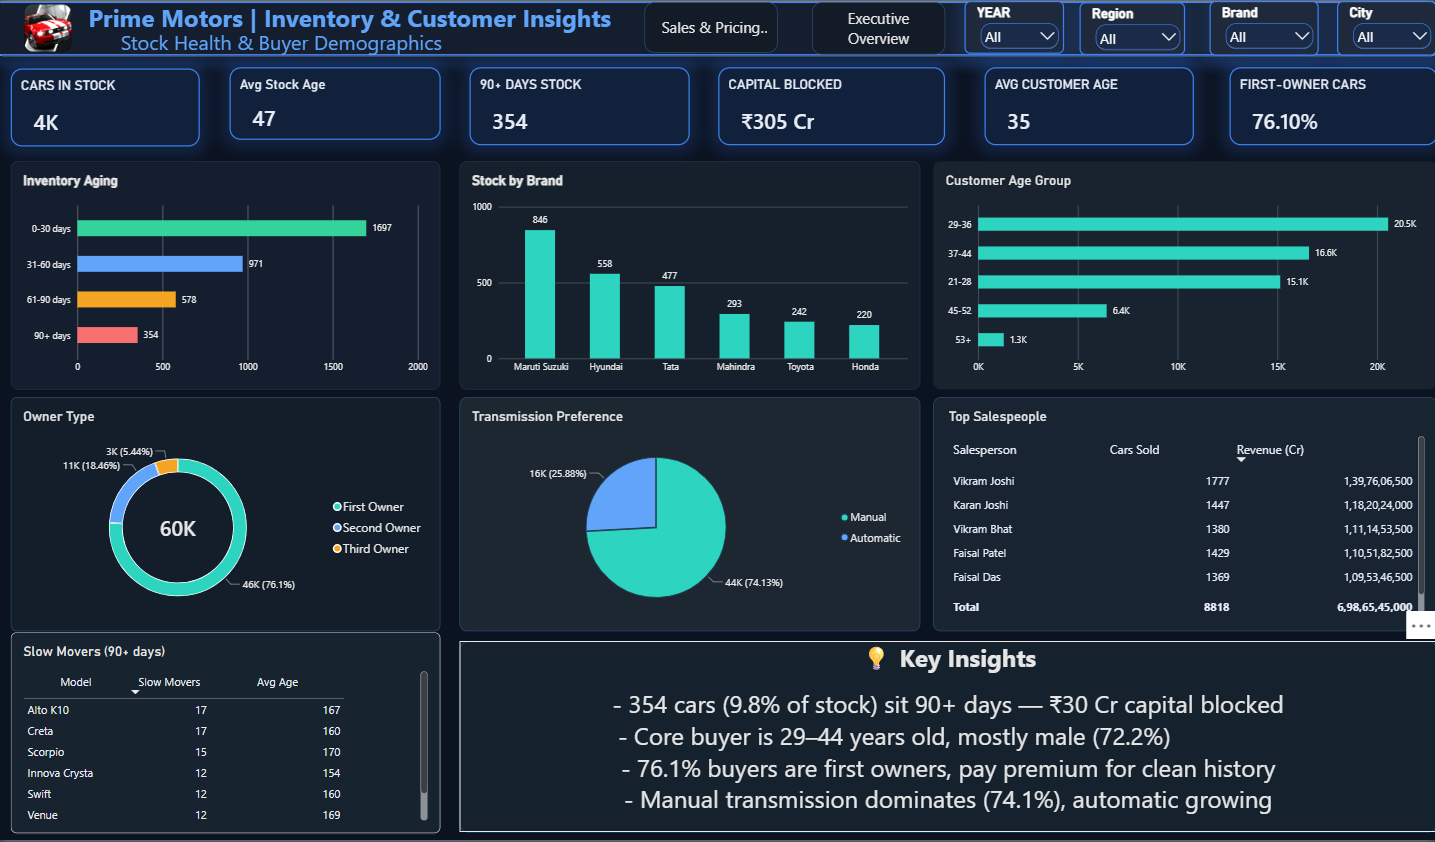

What the dashboard file says about the page in this screenshot:
{"tool":"powerbi","page":{"name":"Inventory & Customer Insights","canvas":[1920,1120],"ordinal":2},"visuals":[{"type":"shape","box":[0,0,1920,73.9],"z":0},{"type":"textbox","box":[122.5,0,741.7,73.9],"z":1},{"type":"textbox","box":[164.7,37,467.2,191.4],"z":2},{"type":"slicer","title":"YEAR","fields":{"Values":["ABC_Motors_Used_Car_Sales.Sale_Year"]},"box":[1289.2,0,132.6,70.6],"z":3},{"type":"slicer","title":"Region","fields":{"Values":["ABC_Motors_Used_Car_Sales.Region"]},"box":[1444,2.3,141.1,70.6],"z":4},{"type":"slicer","title":"Brand","fields":{"Values":["ABC_Motors_Used_Car_Sales.Price_Segment"]},"box":[1617.3,0,145.4,72.7],"z":5},{"type":"slicer","title":"City","fields":{"Values":["ABC_Motors_Used_Car_Sales.Price_Segment"]},"box":[1787.4,0,132.6,72.7],"z":6},{"type":"cardVisual","title":"CARS IN STOCK","fields":{"Data":["ABC_Motors_Used_Car_Sales.Cars in Stock"]},"box":[18.5,90.1,251.8,104],"z":7},{"type":"cardVisual","title":"Avg Stock Age","fields":{"Data":["ABC_Motors_Used_Car_Sales.Avg Stock Age"]},"box":[309.6,87.8,281.9,97],"z":8},{"type":"cardVisual","title":"90+ DAYS STOCK","fields":{"Data":["ABC_Motors_Used_Car_Sales.Aged Stock 90+"]},"box":[630.8,87.8,293.4,104],"z":9},{"type":"cardVisual","title":"CAPITAL BLOCKED","fields":{"Data":["ABC_Motors_Used_Car_Sales.Capital Blocked Text"]},"box":[961.2,87.8,302.7,104],"z":10},{"type":"cardVisual","title":"AVG CUSTOMER AGE","fields":{"Data":["ABC_Motors_Used_Car_Sales.Avg Customer Age"]},"box":[1317,87.8,279.6,104],"z":11},{"type":"cardVisual","title":"FIRST-OWNER CARS","fields":{"Data":["ABC_Motors_Used_Car_Sales.First Owner %"]},"box":[1642.7,87.8,277.3,104],"z":12},{"type":"barChart","title":"Inventory Aging","fields":{"Category":["ABC_Motors_Used_Car_Sales.Aging_Bucket"],"Y":["ABC_Motors_Used_Car_Sales.Cars in Stock"]},"box":[18.5,212.6,573,305],"z":13},{"type":"clusteredColumnChart","title":"Stock by Brand","fields":{"Category":["ABC_Motors_Used_Car_Sales.Brand"],"Y":["ABC_Motors_Used_Car_Sales.Cars in Stock"]},"box":[616.9,212.6,614.6,305],"z":14},{"type":"clusteredBarChart","title":"Customer Age Group","fields":{"Category":["ABC_Motors_Used_Car_Sales.Age_Group"],"Y":["ABC_Motors_Used_Car_Sales.Cars Sold"]},"box":[1247.7,212.6,672.3,305],"z":15},{"type":"donutChart","title":"Owner Type","fields":{"Category":["ABC_Motors_Used_Car_Sales.Owner_Type"],"Y":["ABC_Motors_Used_Car_Sales.Cars Sold"]},"box":[18.5,529.1,573,311.9],"z":16},{"type":"pieChart","title":"Transmission Preference","fields":{"Category":["ABC_Motors_Used_Car_Sales.Transmission"],"Y":["ABC_Motors_Used_Car_Sales.Cars Sold"]},"box":[616.9,529.1,614.6,311.9],"z":17},{"type":"tableEx","title":"Top Salespeople","fields":{"Values":["ABC_Motors_Used_Car_Sales.Salesperson","ABC_Motors_Used_Car_Sales.Cars Sold","ABC_Motors_Used_Car_Sales.Revenue"]},"box":[1247.7,529.1,672.3,311.9],"z":18},{"type":"tableEx","title":"Slow Movers (90+ days)","fields":{"Values":["ABC_Motors_Used_Car_Sales.Model","ABC_Motors_Used_Car_Sales.Slow Movers","ABC_Motors_Used_Car_Sales.Slow Movers Avg Age"]},"box":[18.5,841,573,268],"z":19},{"type":"textbox","box":[616.7,853.3,1303.3,255],"z":20},{"type":"image","box":[13.9,0,108.6,71.6],"z":21},{"type":"actionButton","box":[864.1,2.3,177.9,67],"z":22},{"type":"actionButton","box":[1085.9,2.3,177.9,69.3],"z":23}]}

Visuals, with their boxes in screenshot pixels (x1, y1, x2, y2), scaled from the page's 1920x1120 canvas onto the 1435x842 screenshot:
shape: <bbox>0, 0, 1434, 56</bbox>
textbox: <bbox>92, 0, 646, 56</bbox>
textbox: <bbox>123, 28, 472, 172</bbox>
"YEAR" slicer: <bbox>964, 0, 1063, 53</bbox>
"Region" slicer: <bbox>1079, 2, 1185, 55</bbox>
"Brand" slicer: <bbox>1209, 0, 1317, 55</bbox>
"City" slicer: <bbox>1336, 0, 1434, 55</bbox>
"CARS IN STOCK" cardVisual: <bbox>14, 68, 202, 146</bbox>
"Avg Stock Age" cardVisual: <bbox>231, 66, 442, 139</bbox>
"90+ DAYS STOCK" cardVisual: <bbox>471, 66, 691, 144</bbox>
"CAPITAL BLOCKED" cardVisual: <bbox>718, 66, 945, 144</bbox>
"AVG CUSTOMER AGE" cardVisual: <bbox>984, 66, 1193, 144</bbox>
"FIRST-OWNER CARS" cardVisual: <bbox>1228, 66, 1434, 144</bbox>
"Inventory Aging" barChart: <bbox>14, 160, 442, 389</bbox>
"Stock by Brand" clusteredColumnChart: <bbox>461, 160, 920, 389</bbox>
"Customer Age Group" clusteredBarChart: <bbox>933, 160, 1434, 389</bbox>
"Owner Type" donutChart: <bbox>14, 398, 442, 632</bbox>
"Transmission Preference" pieChart: <bbox>461, 398, 920, 632</bbox>
"Top Salespeople" tableEx: <bbox>933, 398, 1434, 632</bbox>
"Slow Movers (90+ days)" tableEx: <bbox>14, 632, 442, 834</bbox>
textbox: <bbox>461, 641, 1434, 833</bbox>
image: <bbox>10, 0, 92, 54</bbox>
actionButton: <bbox>646, 2, 779, 52</bbox>
actionButton: <bbox>812, 2, 945, 54</bbox>
